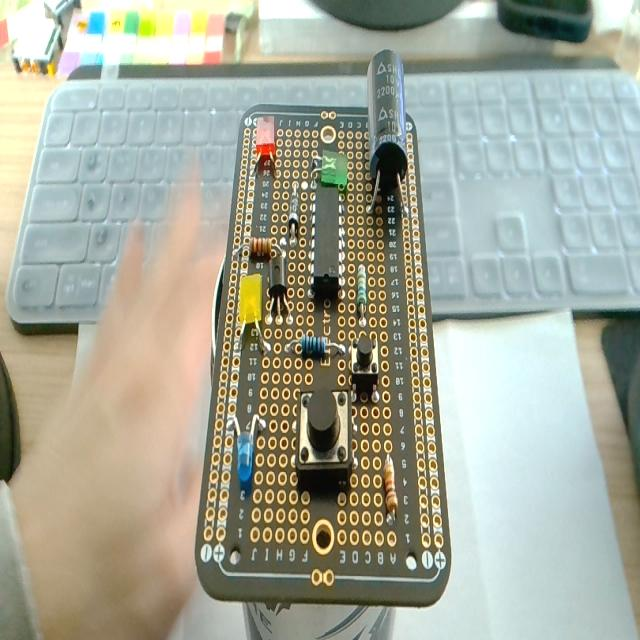Electrolytic capacitor: (364, 48, 412, 218)
IC: (312, 185, 342, 298)
diode: (288, 184, 300, 237)
led: (226, 411, 266, 493), (254, 115, 276, 174), (238, 272, 262, 326), (320, 150, 348, 188)
resistor: (383, 456, 398, 516), (300, 333, 326, 358), (249, 236, 273, 258), (356, 264, 366, 314)
switch: (295, 388, 353, 484), (350, 336, 379, 402)
transistor: (266, 250, 292, 320)
